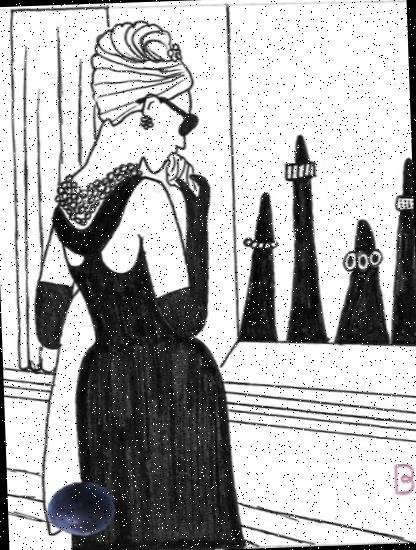Plum: (44, 472, 117, 546)
